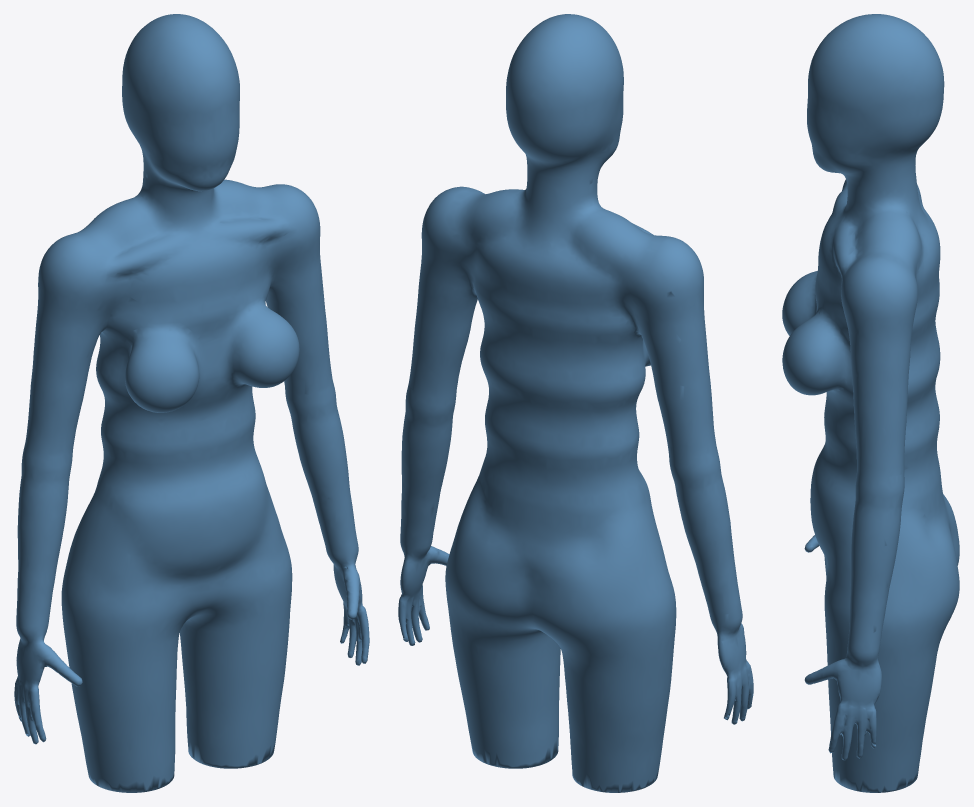
The model's file is female_health_model (1).glb.
3 views of the same model, side by side, from view 1: azimuth 30°, elevation 25°; view 2: azimuth 150°, elevation 25°; view 3: azimuth 270°, elevation 25° (orthographic).
Visible parts, largest first — view 1: body_shell; view 2: body_shell; view 3: body_shell.
Boxes of the visible parts, <box> form: body_shell: <box>14,14,369,792</box>; body_shell: <box>398,14,753,792</box>; body_shell: <box>782,14,959,792</box>.
Size of what is drawn, in the model's own units: 0.5283 by 1.11 by 0.2437.
